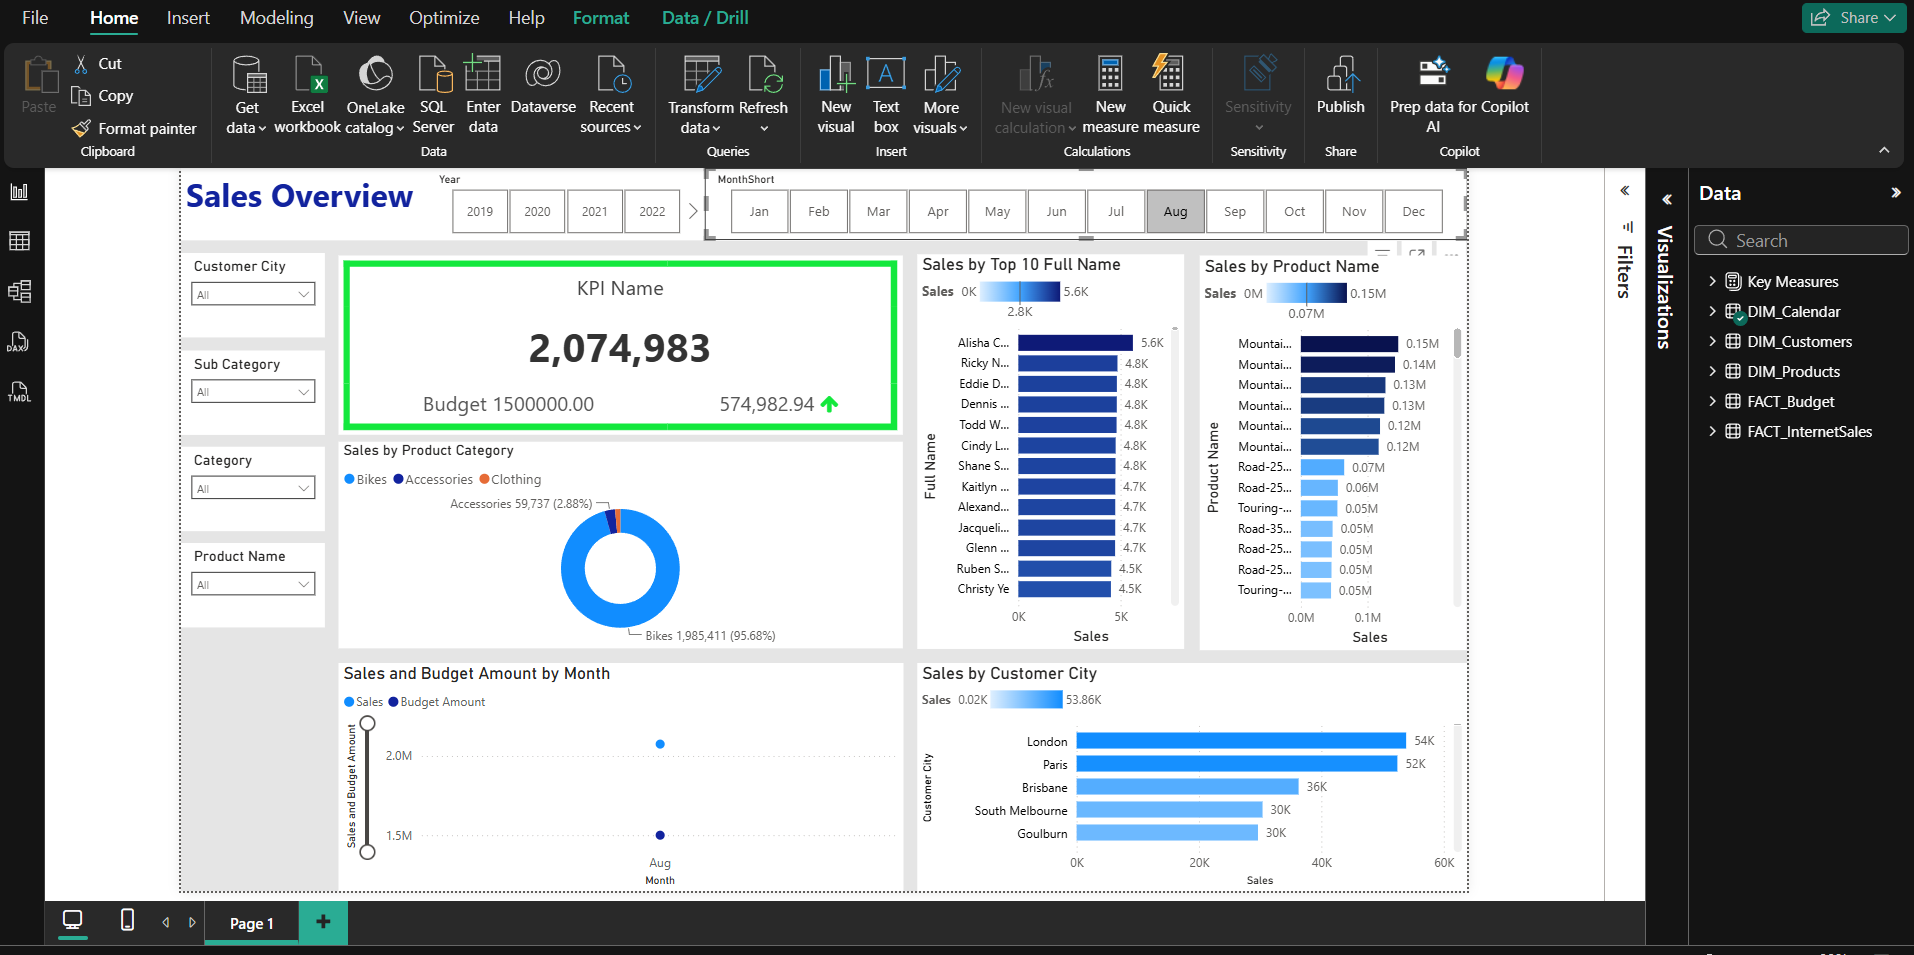

This screenshot's page, from the dashboard's own definition file:
{"tool":"powerbi","page":{"name":"Page 1","canvas":[1280,720],"ordinal":0},"visuals":[{"type":"textbox","box":[0,0,1279.7,71.6],"z":0},{"type":"slicer","fields":{"Values":["DIM_Customers.Customer City"]},"box":[0,85.1,143.2,83.8],"z":1000},{"type":"slicer","fields":{"Values":["DIM_Products.Sub Category"]},"box":[0,181.1,143.2,83.8],"z":2000},{"type":"slicer","fields":{"Values":["DIM_Products.Product Category"]},"box":[0,277,143.2,83.8],"z":3000},{"type":"slicer","fields":{"Values":["DIM_Products.Product Name"]},"box":[0,373,143.2,83.8],"z":4000},{"type":"slicer","fields":{"Values":["DIM_Calendar.Year"]},"box":[244.3,0,277.1,71.4],"z":5000},{"type":"slicer","fields":{"Values":["DIM_Calendar.MonthShort"]},"box":[521.6,0,758.1,71.6],"z":6000},{"type":"BBED0A4D4D8D44CE93CF2DAFADEE466C","fields":{"actual":["FACT_InternetSales.Sales"],"target1":["FACT_Budget.Budget Amount"],"target2":["Key Measures.Sales - Budget"]},"box":[157.1,87.1,561.4,178.6],"z":7000},{"type":"donutChart","fields":{"Category":["DIM_Products.Product Category"],"Y":["Key Measures.Sales"]},"box":[157.1,272.9,561.4,205.7],"z":8000},{"type":"lineChart","fields":{"Y":["Key Measures.Sales","Key Measures.Budget Amount"],"Category":["DIM_Calendar.MonthShort"]},"box":[157.1,492.9,561.4,227.1],"z":9000},{"type":"barChart","title":"Sales by Top 10 Full Name","fields":{"Y":["Key Measures.Sales"],"Category":["DIM_Customers.Full Name"]},"box":[732.9,85.7,265.7,392.9],"z":10000},{"type":"barChart","fields":{"Category":["DIM_Products.Product Name"],"Y":["Key Measures.Sales"]},"box":[1014.3,87.1,265.7,392.9],"z":11000},{"type":"clusteredBarChart","fields":{"Category":["DIM_Customers.Customer City"],"Y":["Key Measures.Sales"]},"box":[732.9,492.9,547.1,227.1],"z":12000}]}

Visuals, with their boxes on the page's 1280x720 design canvas (x1, y1, x2, y2). These are canvas units, not pixel positions in the 1914x955 screenshot, which may show the page scaled, cropped or inside an application window:
textbox: 0 0 1280 72
slicer - DIM_Customers.Customer City: 0 85 143 169
slicer - DIM_Products.Sub Category: 0 181 143 265
slicer - DIM_Products.Product Category: 0 277 143 361
slicer - DIM_Products.Product Name: 0 373 143 457
slicer - DIM_Calendar.Year: 244 0 521 71
slicer - DIM_Calendar.MonthShort: 522 0 1280 72
BBED0A4D4D8D44CE93CF2DAFADEE466C - FACT_InternetSales.Sales x FACT_Budget.Budget Amount: 157 87 718 266
donutChart - DIM_Products.Product Category x Key Measures.Sales: 157 273 718 479
lineChart - Key Measures.Sales x Key Measures.Budget Amount: 157 493 718 720
"Sales by Top 10 Full Name" barChart: 733 86 999 479
barChart - DIM_Products.Product Name x Key Measures.Sales: 1014 87 1280 480
clusteredBarChart - DIM_Customers.Customer City x Key Measures.Sales: 733 493 1280 720
